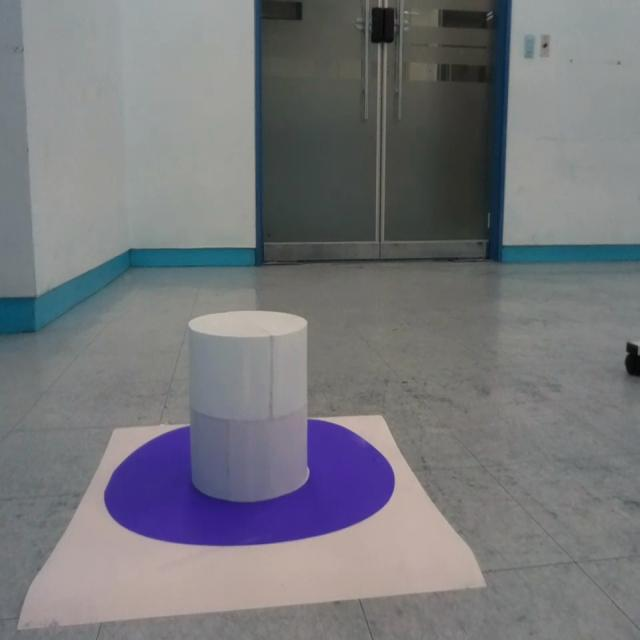cylinder: (185, 310, 311, 502)
